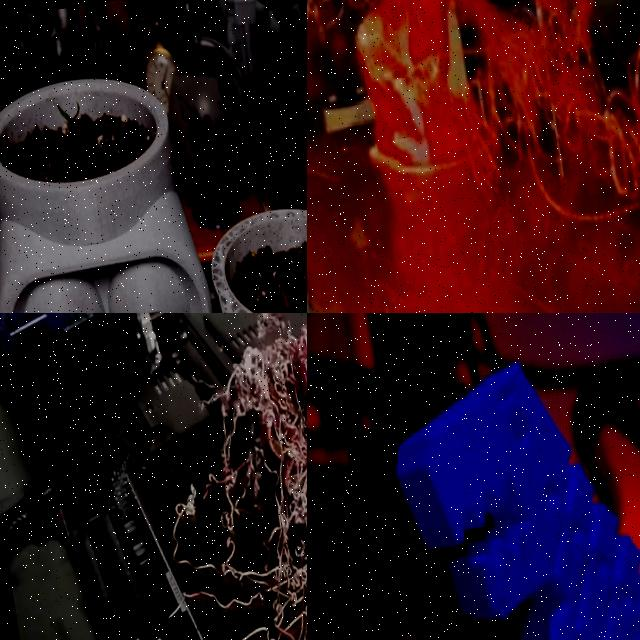spaghetti: (75, 313, 307, 640), (460, 0, 640, 262)
